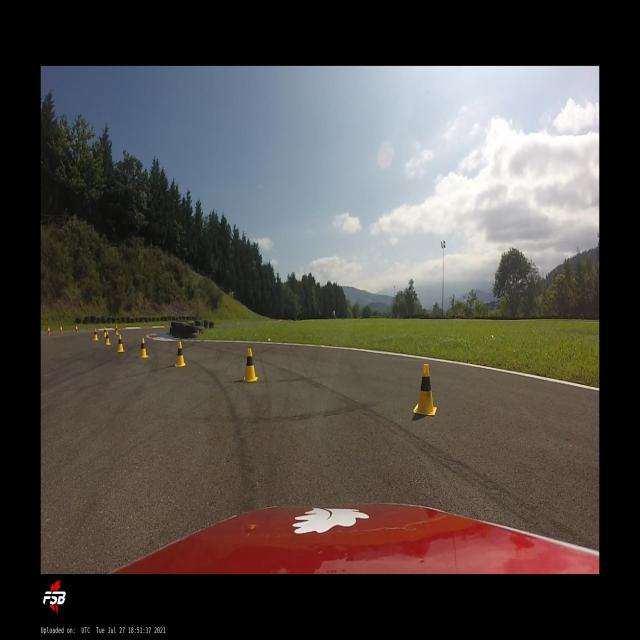orange_cone: (60, 326, 63, 334), (75, 326, 78, 333), (48, 326, 50, 335)
yellow_cone: (413, 364, 437, 416), (243, 348, 258, 382), (174, 341, 186, 368), (140, 337, 148, 359), (118, 334, 124, 353), (105, 330, 111, 346), (93, 327, 99, 341), (115, 326, 119, 336), (104, 326, 106, 338)
